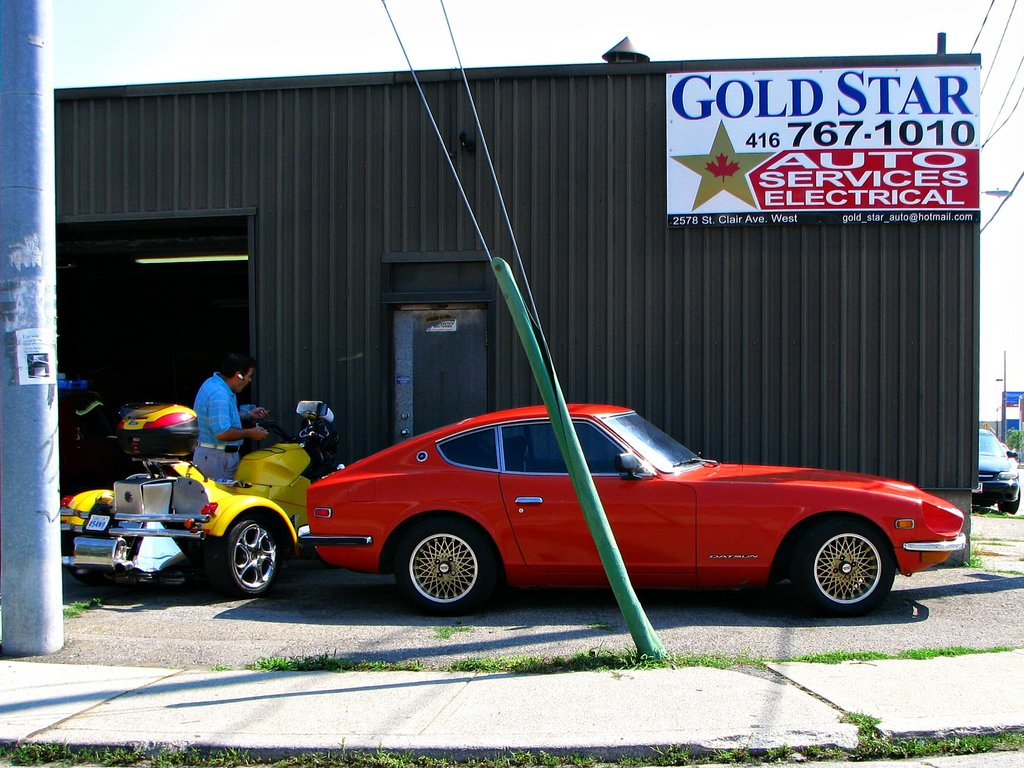mobil: (301, 402, 976, 628)
